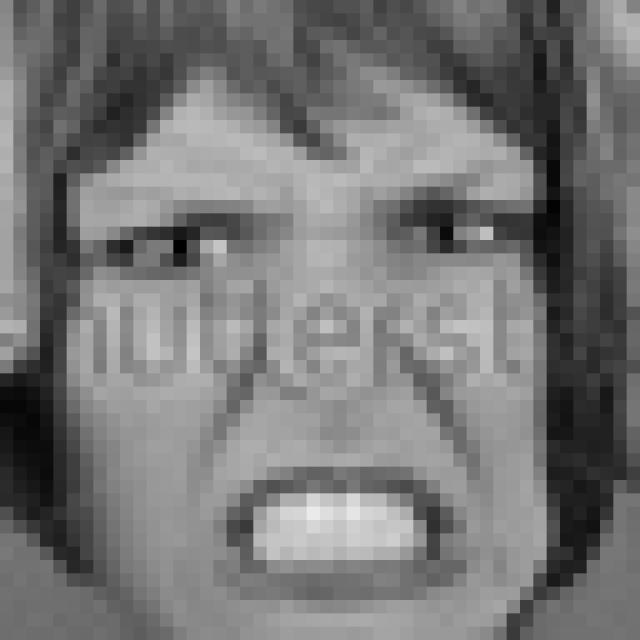angry: (74, 139, 541, 607)
